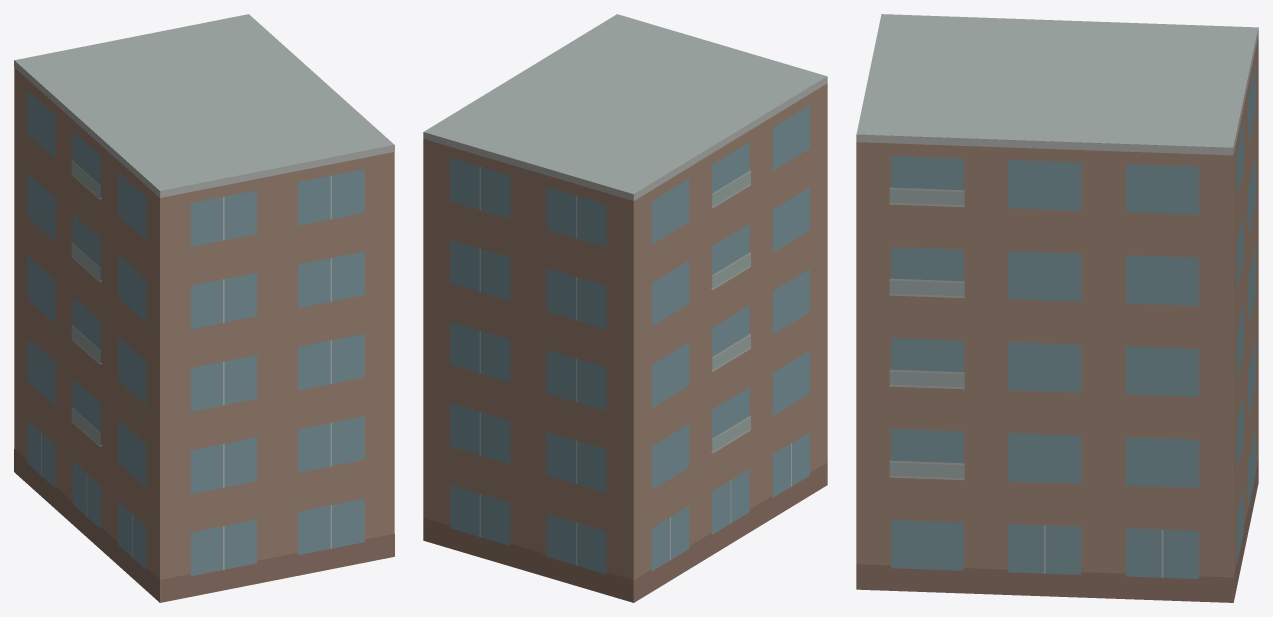
File: survey-upis-32604882.glb
3 views of the same model, side by side, from view 1: azimuth 30°, elevation 25°; view 2: azimuth 150°, elevation 25°; view 3: azimuth 270°, elevation 25° (orthographic). The views are drawn at different scales.
Parts seen in each view (by area): view 1: survey-upis-32604882.tmp; view 2: survey-upis-32604882.tmp; view 3: survey-upis-32604882.tmp.
Part boxes in pixels (left/top/right/bottom): survey-upis-32604882.tmp: left=14, top=14, right=394, bottom=602; survey-upis-32604882.tmp: left=423, top=14, right=827, bottom=602; survey-upis-32604882.tmp: left=856, top=14, right=1258, bottom=602.
Size of the model in its own units: 9.18 by 14.54 by 11.65.
